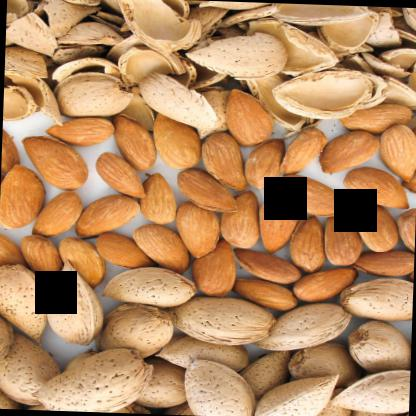almond: (19, 137, 87, 190), (127, 220, 193, 272), (72, 192, 140, 240), (110, 110, 160, 172), (177, 198, 226, 260), (220, 90, 276, 144), (152, 112, 205, 169), (320, 127, 381, 176), (202, 128, 250, 189), (281, 173, 348, 216), (174, 167, 236, 213), (0, 164, 44, 228), (344, 166, 411, 208), (336, 101, 414, 136), (29, 189, 83, 238), (254, 196, 300, 253), (190, 240, 238, 294), (280, 123, 328, 176), (292, 265, 358, 303), (354, 200, 404, 250), (244, 134, 288, 188), (286, 216, 328, 272), (95, 152, 146, 198), (48, 112, 116, 146), (235, 248, 302, 282), (376, 121, 415, 179), (236, 274, 300, 308), (219, 191, 258, 246), (93, 231, 146, 271), (58, 238, 102, 286), (138, 171, 178, 223), (20, 233, 62, 282), (324, 215, 364, 266), (353, 250, 414, 278), (392, 210, 415, 260)
